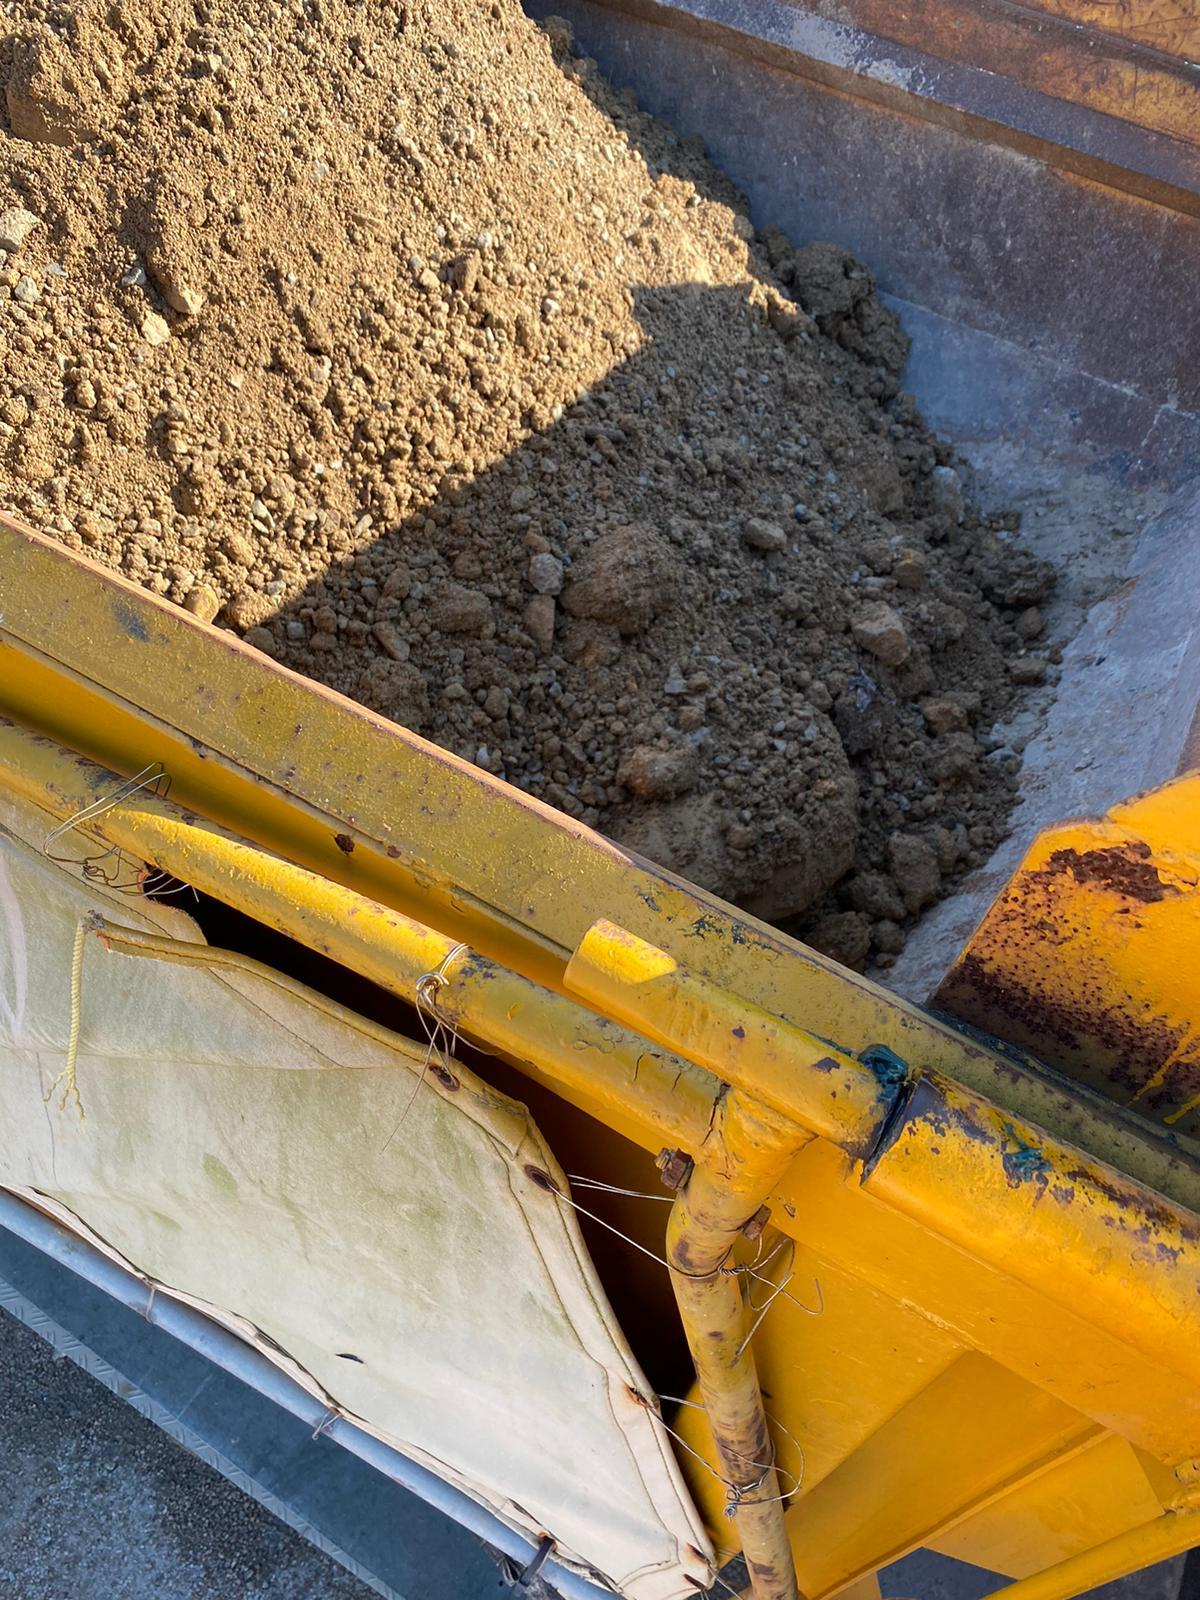stone: (0, 0, 1060, 983), (558, 522, 687, 634)
